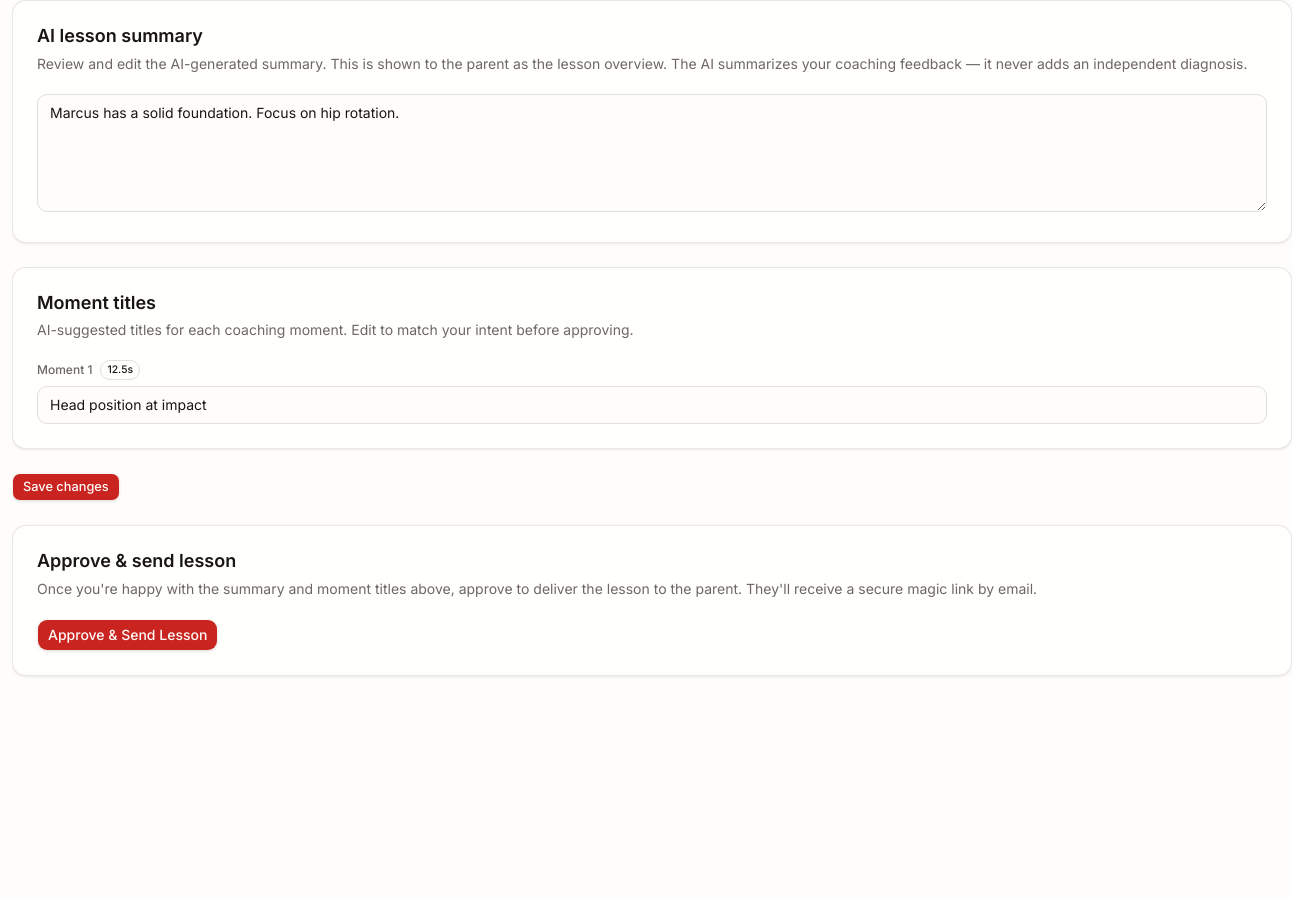
Test case: AiReviewPanel — coach reviews/edits AI output (Wave 4 Sub-slice 3c-i) › shows a saved confirmation on success
The image size is (1292, 900).
Click the button "Save changes" at (66, 487), box [12,473,120,501]
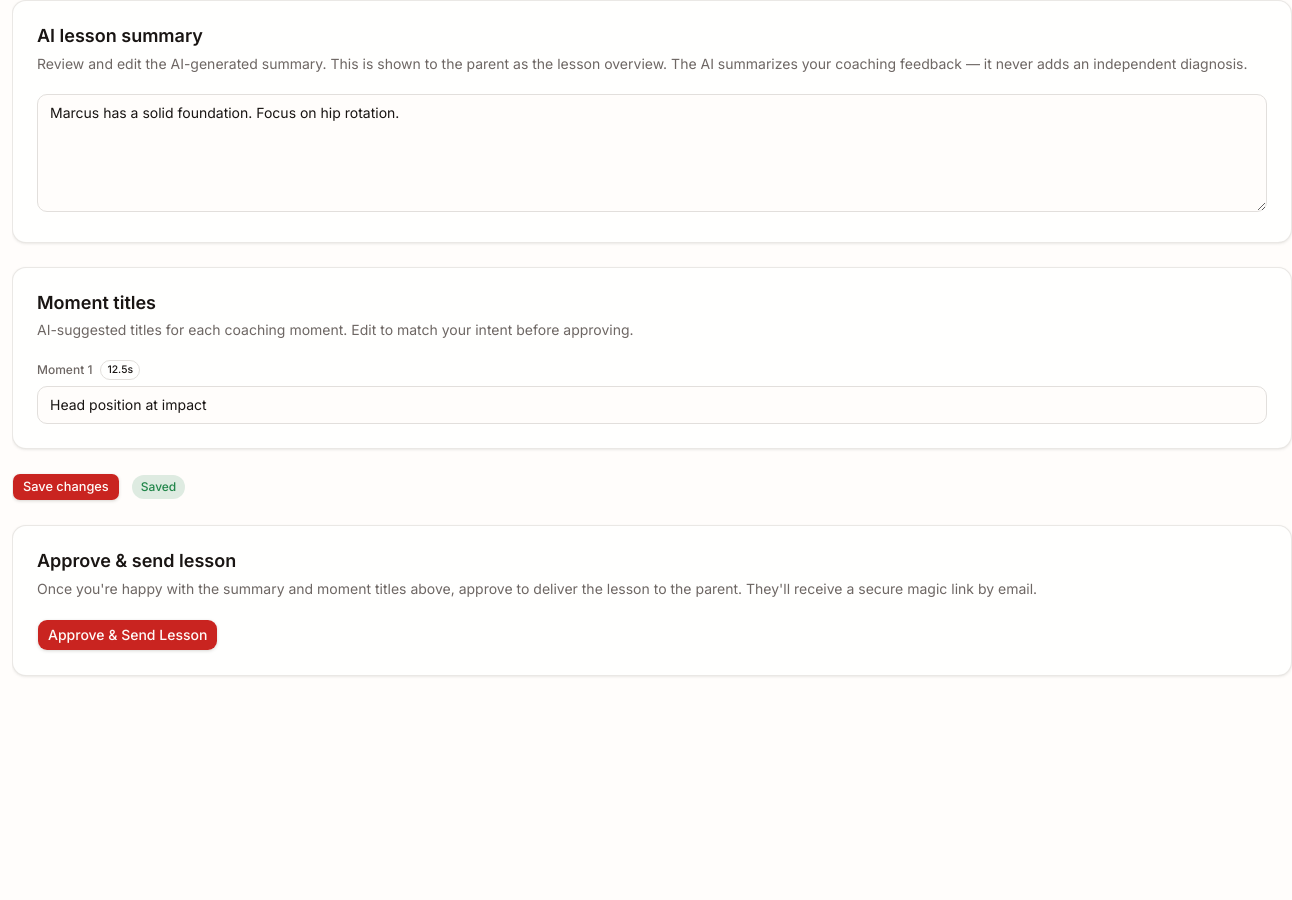
Check: the text "Saved" is shown, box [132,475,185,499]
